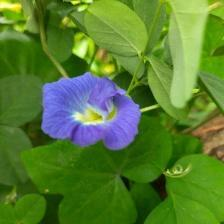shankupushpam: (41, 69, 143, 154)
